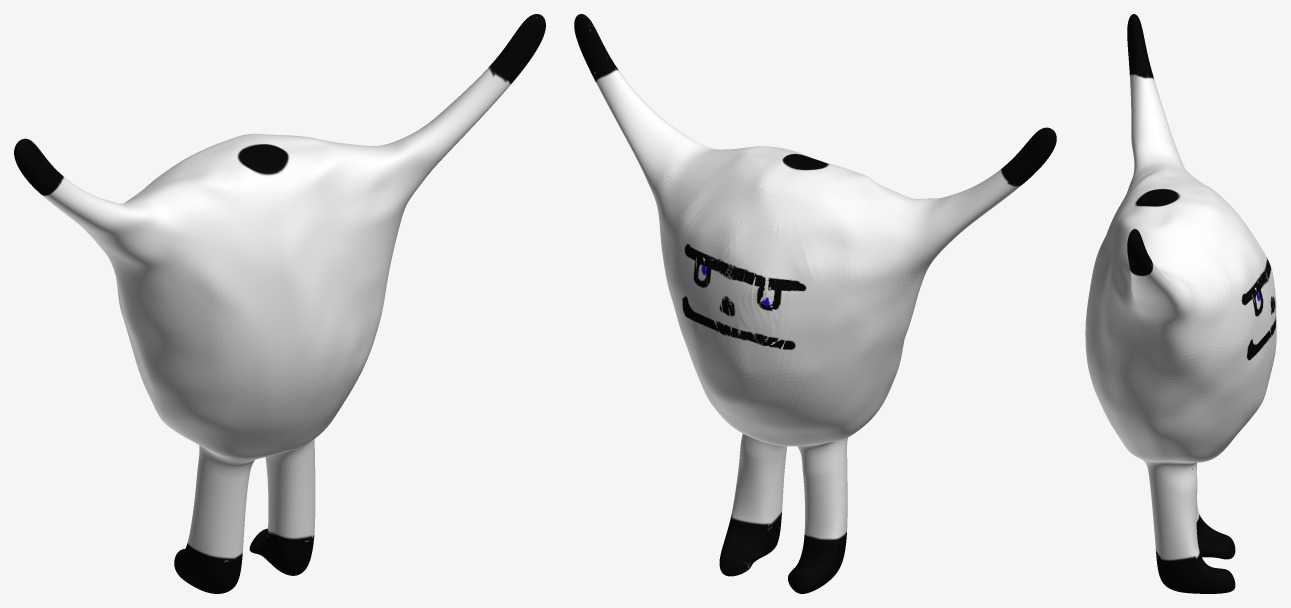
The model's file is Egg.glb.
3 views of the same model, side by side, from view 1: azimuth 30°, elevation 25°; view 2: azimuth 150°, elevation 25°; view 3: azimuth 270°, elevation 25° (orthographic). The views are drawn at different scales.
Parts seen in each view (by area): view 1: Egg; view 2: Egg; view 3: Egg.
Boxes of the visible parts, left/top/right/bottom form: Egg: left=14, top=14, right=545, bottom=593; Egg: left=574, top=14, right=1056, bottom=593; Egg: left=1085, top=14, right=1276, bottom=593.
Bounding box in the file's own units: 1.09 × 1.03 × 0.3963.
1 material, 1 textured.
